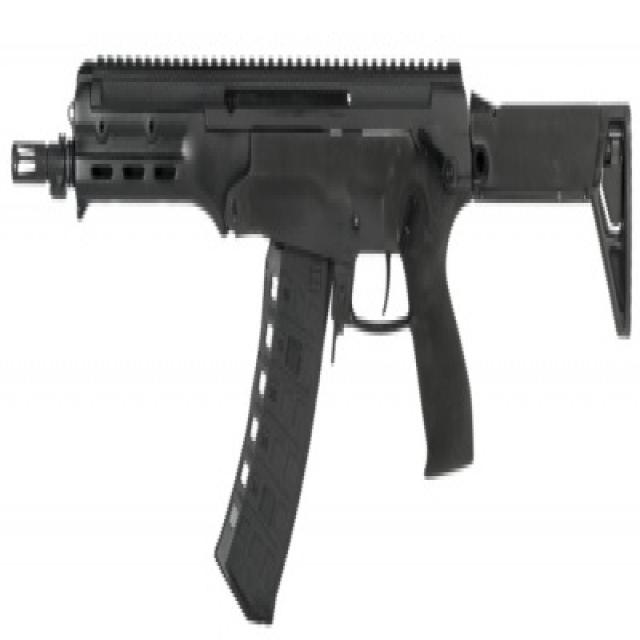rifle: (8, 32, 640, 640)
